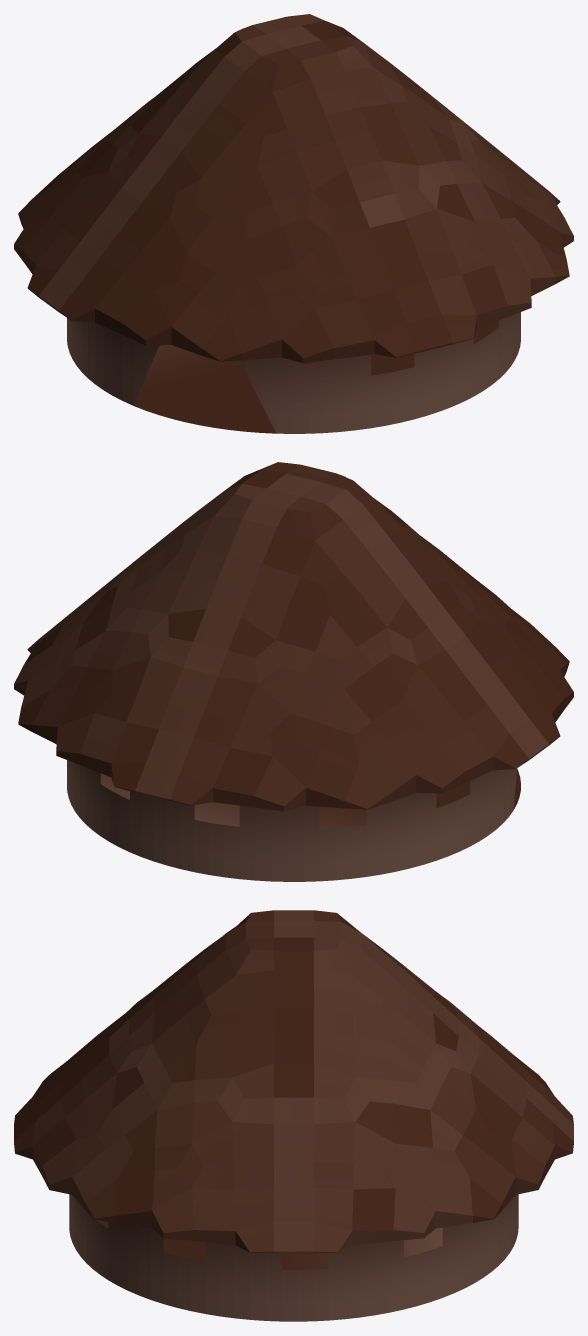
The model's file is ocas pequena6.fbx.
3 renders of one model, top to bottom at view 1: azimuth 30°, elevation 25°; view 2: azimuth 150°, elevation 25°; view 3: azimuth 270°, elevation 25°, orthographic.
Parts seen in each view (by area): view 1: Cone, Cylinder; view 2: Cone, Cylinder; view 3: Cone, Cylinder.
Boxes of the visible parts, left/top/right/bottom form: Cone: left=14, top=14, right=573, bottom=363; Cylinder: left=67, top=312, right=520, bottom=433; Cone: left=14, top=462, right=573, bottom=811; Cylinder: left=67, top=760, right=520, bottom=881; Cone: left=14, top=910, right=573, bottom=1253; Cylinder: left=69, top=1194, right=518, bottom=1321.
Bounding box in the file's own units: 473 × 278 × 473.
Materials: 2 (2 with a texture image).
